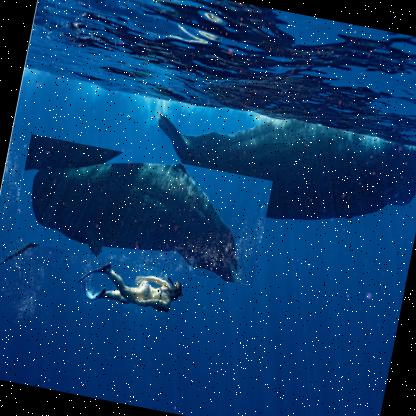sperm_whale: (142, 58, 415, 256), (11, 134, 274, 287)
